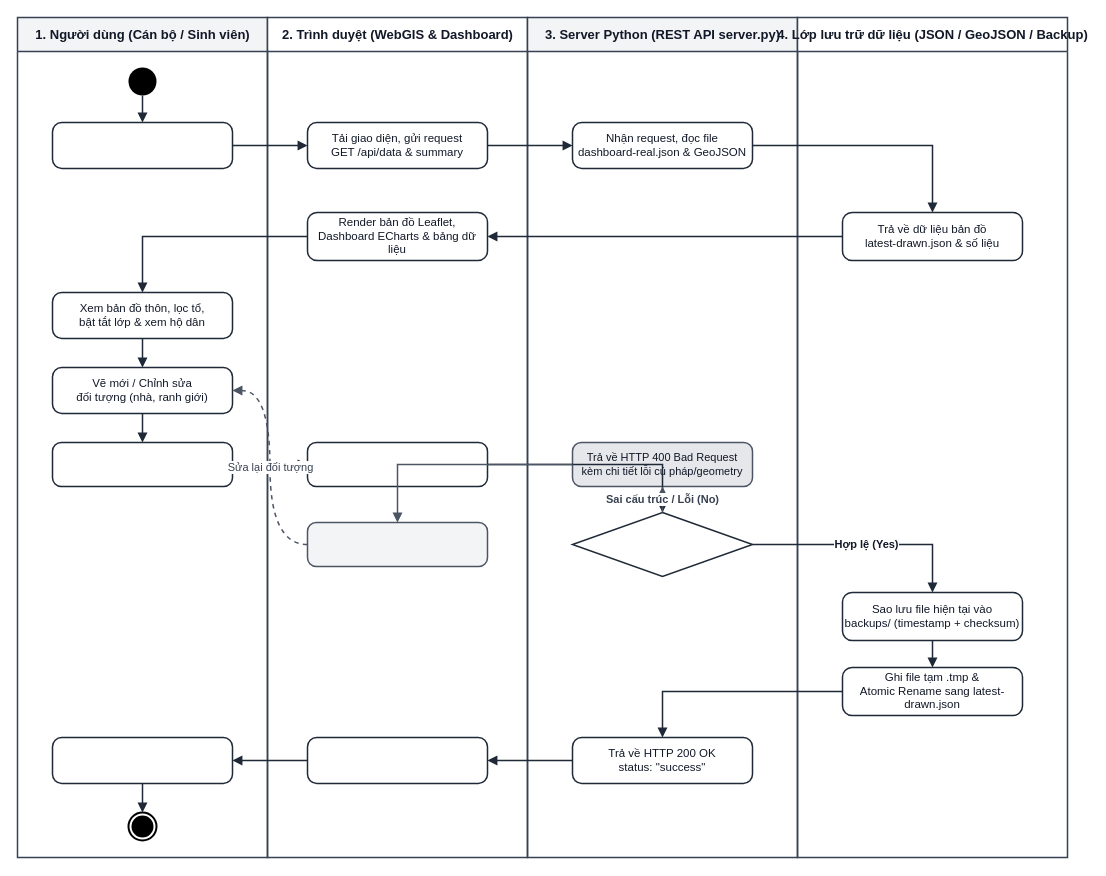
Some shapes in this 1106 by 876 pixel diagram are drawn without their labels. Here are the shapes that lost their labels. From the top down, the centre of each, then its label:
the point at 142,145: Truy cập hệ thống (index.html / map.html)
the point at 142,464: Nhấn nút "Lưu bản đồ"
the point at 397,464: Tạo payload GeoJSON Gửi POST /api/save
the point at 397,544: Hiển thị thông báo lỗi (Validation Error Alert)
the point at 662,544: Kiểm tra hợp lệ? (Geometry & FeatureCollection)
the point at 142,760: Quan sát đối tượng được cập nhật trên bản đồ
the point at 397,760: Hiển thị thông báo "Lưu bản đồ thành công"
